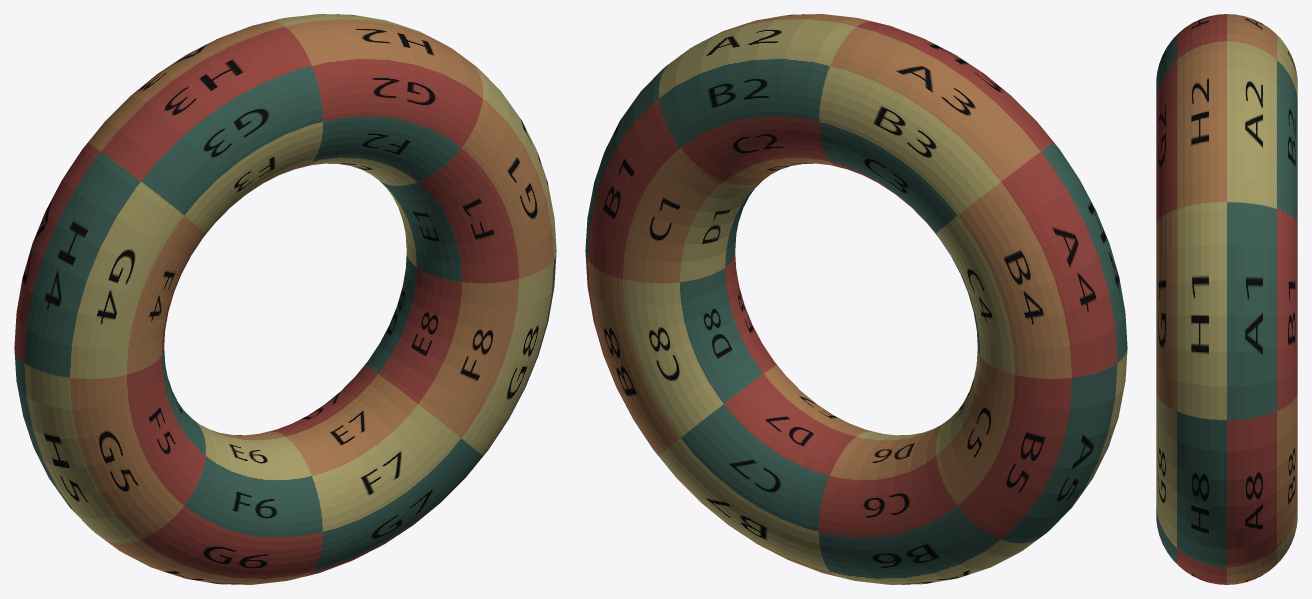
The model's file is texture_torus_R11_r14.glb.
The picture shows the model from 3 angles, left to right: view 1: azimuth 30°, elevation 25°; view 2: azimuth 150°, elevation 25°; view 3: azimuth 270°, elevation 25°; orthographic projection. The views are drawn at different scales.
Parts seen in each view (by area): view 1: world; view 2: world; view 3: world.
Boxes of the visible parts, x1=… form: world: x1=14, y1=14, x2=556, y2=584; world: x1=585, y1=14, x2=1127, y2=584; world: x1=1156, y1=14, x2=1297, y2=584.
Size of the model in its own units: 23.07 by 23.02 by 5.72.
1 material, 1 textured.
